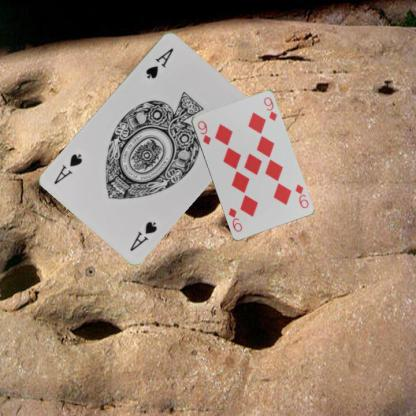9d: (292, 181, 310, 210), (195, 118, 212, 145)
As: (142, 45, 174, 80), (127, 218, 159, 252)
